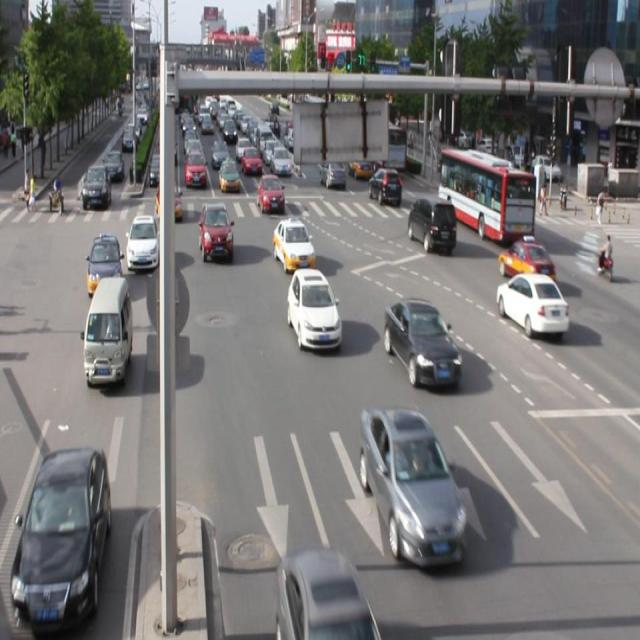car: (11, 441, 110, 627), (362, 404, 465, 564), (275, 547, 369, 640), (384, 297, 461, 388), (286, 266, 341, 350), (494, 270, 566, 334), (496, 238, 554, 288), (407, 196, 456, 252), (273, 216, 316, 272), (199, 201, 234, 261), (127, 213, 159, 269)
truck: (82, 277, 132, 383)
van: (438, 146, 533, 239)
